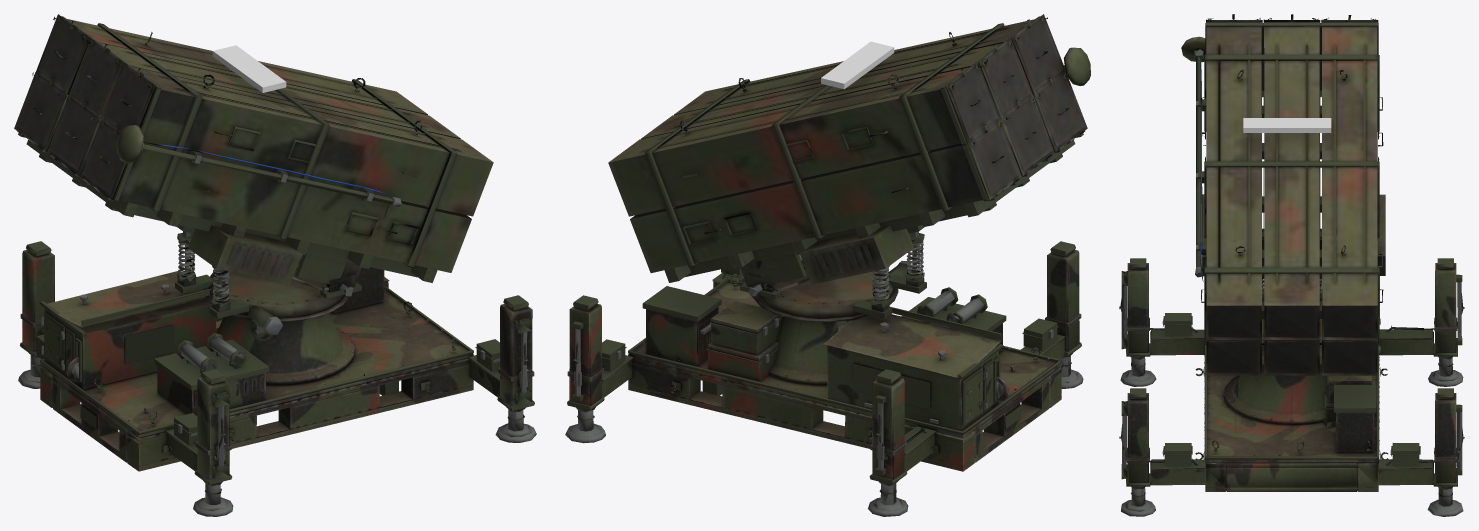
Rendered from nasams.glb.
3 renders of one model, left to right at view 1: azimuth 30°, elevation 25°; view 2: azimuth 150°, elevation 25°; view 3: azimuth 270°, elevation 25°, orthographic. The views are drawn at different scales.
Parts seen in each view (by area): view 1: g_nasams_turret, g_nasams_hull; view 2: g_nasams_turret, g_nasams_hull; view 3: g_nasams_turret, g_nasams_hull.
Boxes of the visible parts, x1,y1,x2,y2 form: g_nasams_turret: [14, 14, 493, 335]; g_nasams_hull: [18, 241, 536, 516]; g_nasams_turret: [608, 14, 1090, 322]; g_nasams_hull: [565, 241, 1083, 516]; g_nasams_turret: [1181, 14, 1385, 375]; g_nasams_hull: [1119, 258, 1464, 516].
Bounding box in the file's own units: 3.6 × 3.63 × 3.19.
Materials: 3 (2 with a texture image).
